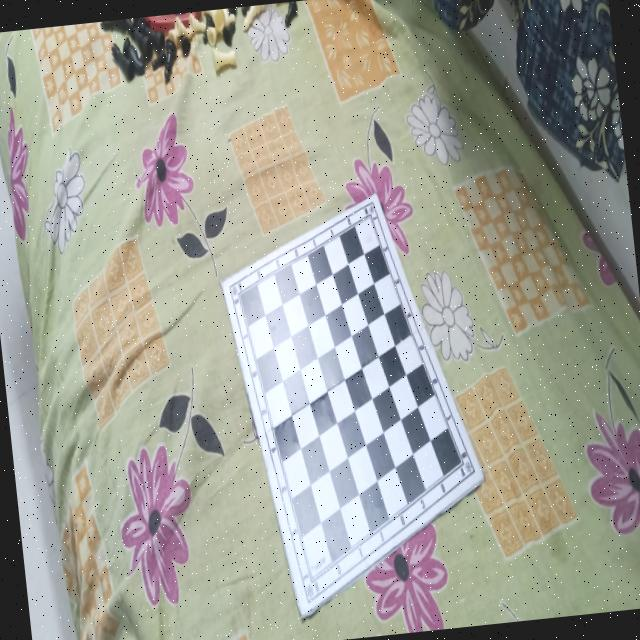corners: (297, 609, 308, 627), (217, 277, 227, 294), (369, 185, 378, 203), (480, 470, 488, 488)
